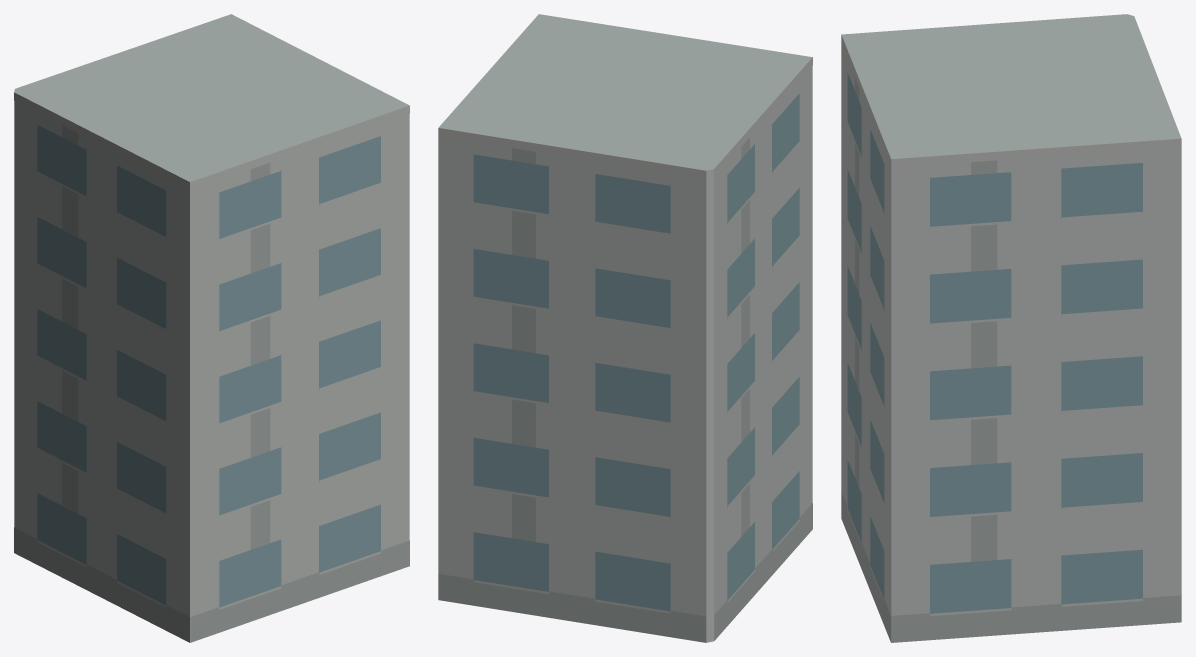
The model's file is survey-upis-32698819.glb.
3 views of the same model, side by side, from view 1: azimuth 30°, elevation 25°; view 2: azimuth 150°, elevation 25°; view 3: azimuth 270°, elevation 25° (orthographic). The views are drawn at different scales.
Visible parts, largest first — view 1: survey-upis-32698819.tmp; view 2: survey-upis-32698819.tmp; view 3: survey-upis-32698819.tmp.
Boxes of the visible parts, bbox=[...] form: survey-upis-32698819.tmp: bbox=[14, 14, 409, 642]; survey-upis-32698819.tmp: bbox=[438, 14, 812, 642]; survey-upis-32698819.tmp: bbox=[841, 14, 1181, 642].
Size of the model in its own units: 8.76 by 13.6 by 8.68.
